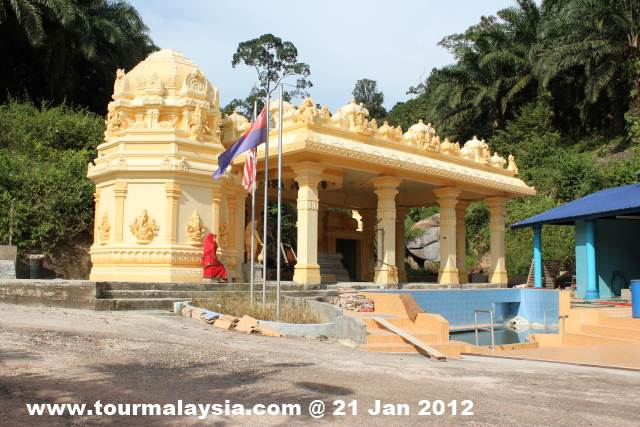Hindu Temple: (102, 49, 510, 292)
